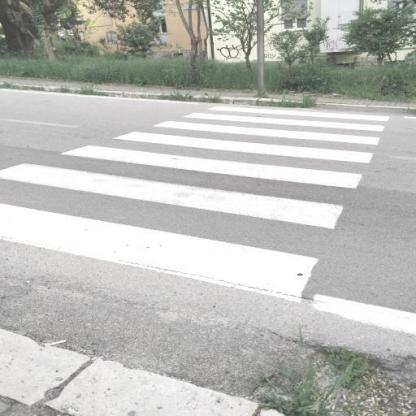crosswalk: (53, 128, 379, 194)
